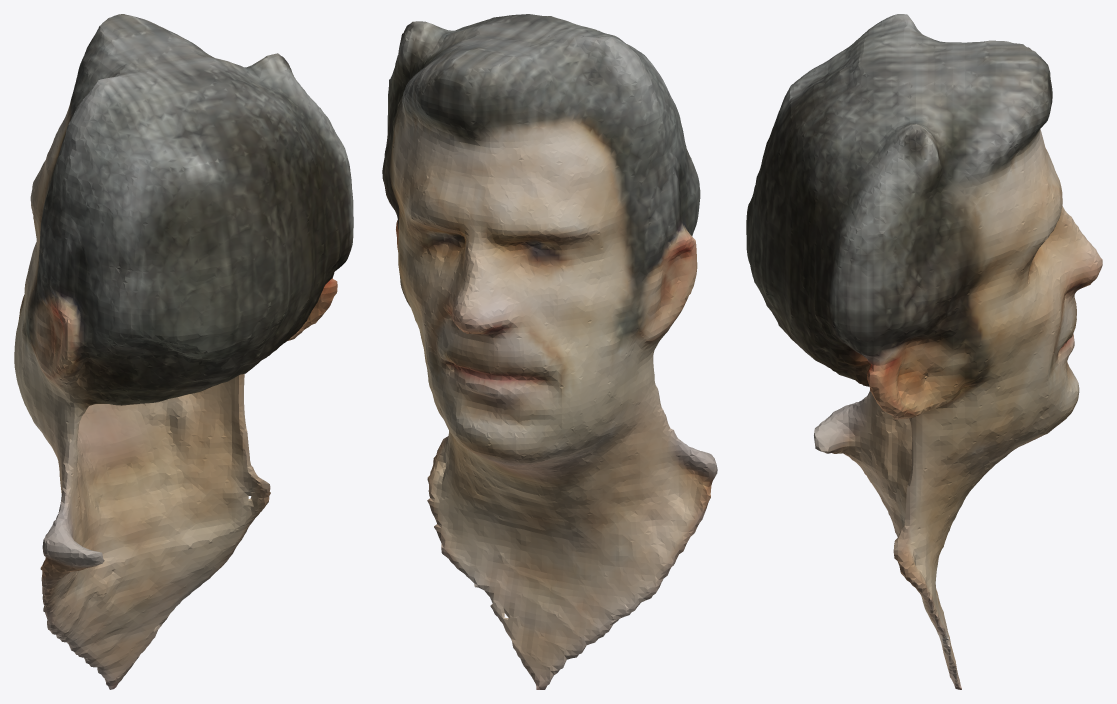
File: tmpjywr_92h.glb
The picture shows the model from 3 angles, left to right: view 1: azimuth 30°, elevation 25°; view 2: azimuth 150°, elevation 25°; view 3: azimuth 270°, elevation 25°; orthographic projection. The views are drawn at different scales.
Visible parts, largest first — view 1: world; view 2: world; view 3: world.
Part boxes in pixels (x1,y1,x2,y2): world: (14, 14, 353, 689); world: (382, 14, 717, 689); world: (746, 14, 1102, 689).
Size of the model in its own units: 0.9964 by 1.95 by 0.9575.
